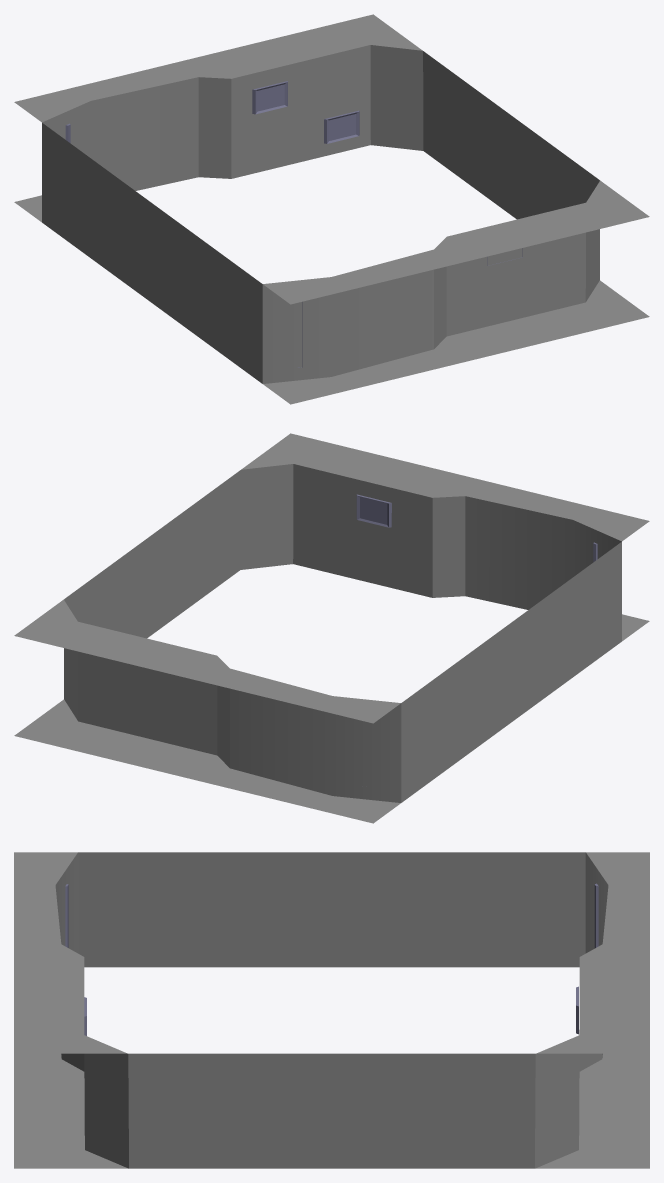
File: Cor3_simple.fbx
3 renders of one model, top to bottom at view 1: azimuth 30°, elevation 25°; view 2: azimuth 150°, elevation 25°; view 3: azimuth 270°, elevation 25°, orthographic. The views are drawn at different scales.
Parts seen in each view (by area): view 1: Cube.043; view 2: Cube.043; view 3: Cube.043.
Part boxes in pixels (x1,y1,x2,y2): Cube.043: (14,14,649,404); Cube.043: (14,433,649,823); Cube.043: (14,852,649,1168).
Bounding box in the file's own units: 300 × 79.79 × 400.
